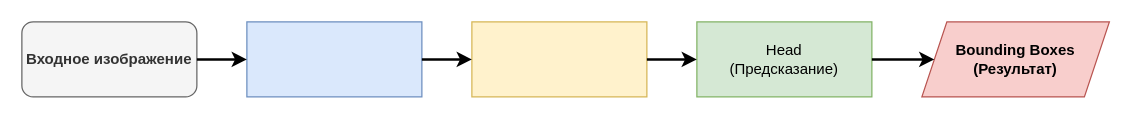
Image size: 1131x119. Some labels were removed from this diagram. The shapes that lost their labels are listed below. From the top down, each one's box as (x1, y1, x2, y2) in pixels, then its label:
(246, 21, 422, 97): Backbone (Извлечение признаков)
(471, 21, 647, 97): Neck (Агрегация признаков)
